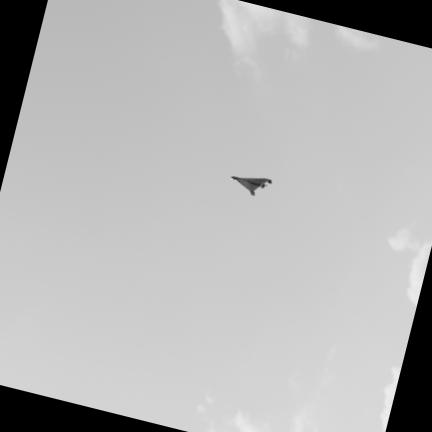Shahed: (232, 176, 271, 194)
